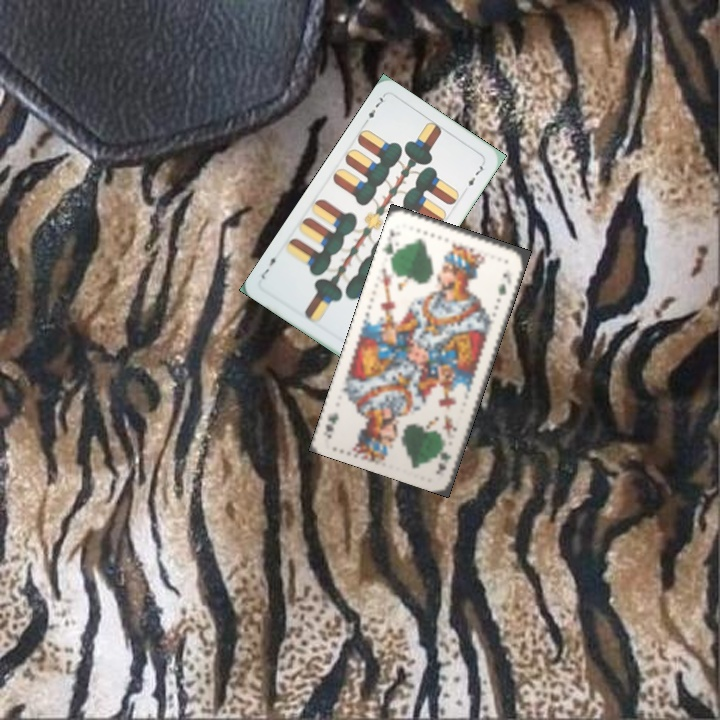E7: (359, 92, 388, 128)
GK: (379, 225, 400, 262), (432, 447, 453, 476)
